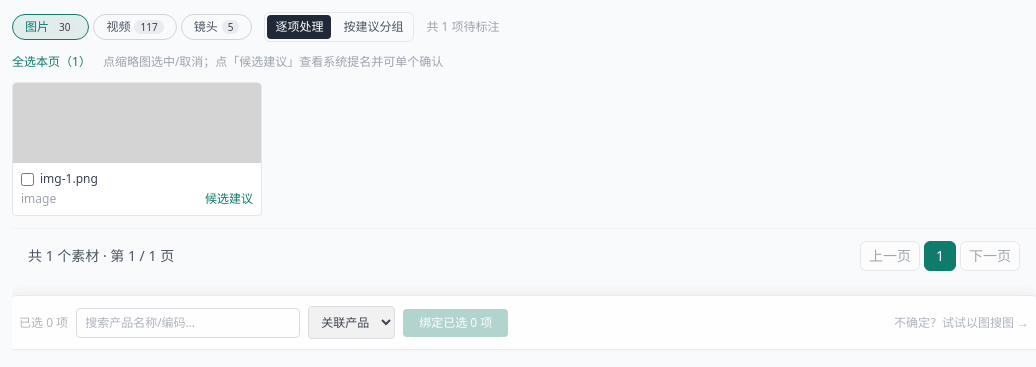
it: UnassignedWorkbench 待归类工作台 › 视频/镜头类型显示继承说明
Click the button with test id "unassigned-tab-video" at point(135, 27), box [94, 14, 177, 40]
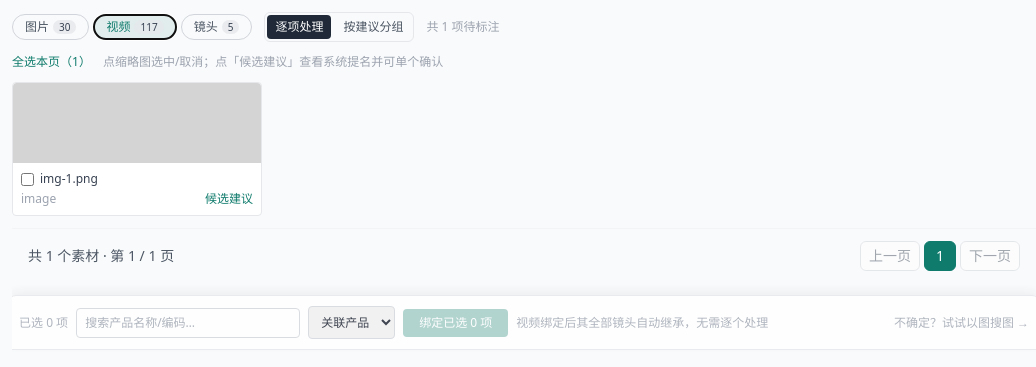
Expected: the text "视频绑定后其全部镜头自动继承，无需逐个处理" is shown, [516, 314, 768, 330]
